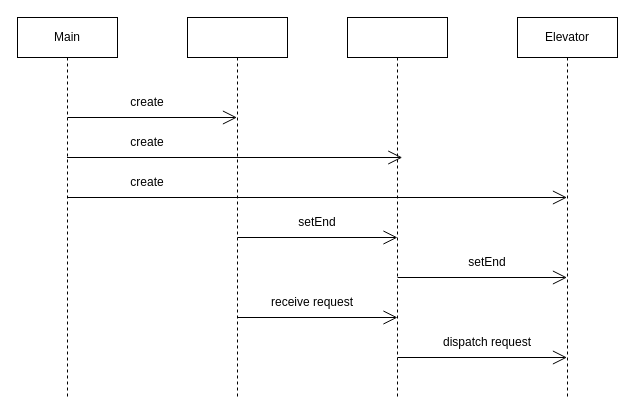
The diagram is 635 pixels wide and 415 high, and some of its shapes have lost their labels. The box of each missing label's shape, as (x1, y1, x2, y2) in pixels:
Dispatch: (346, 16, 448, 398)
InputHandler: (186, 16, 288, 398)
